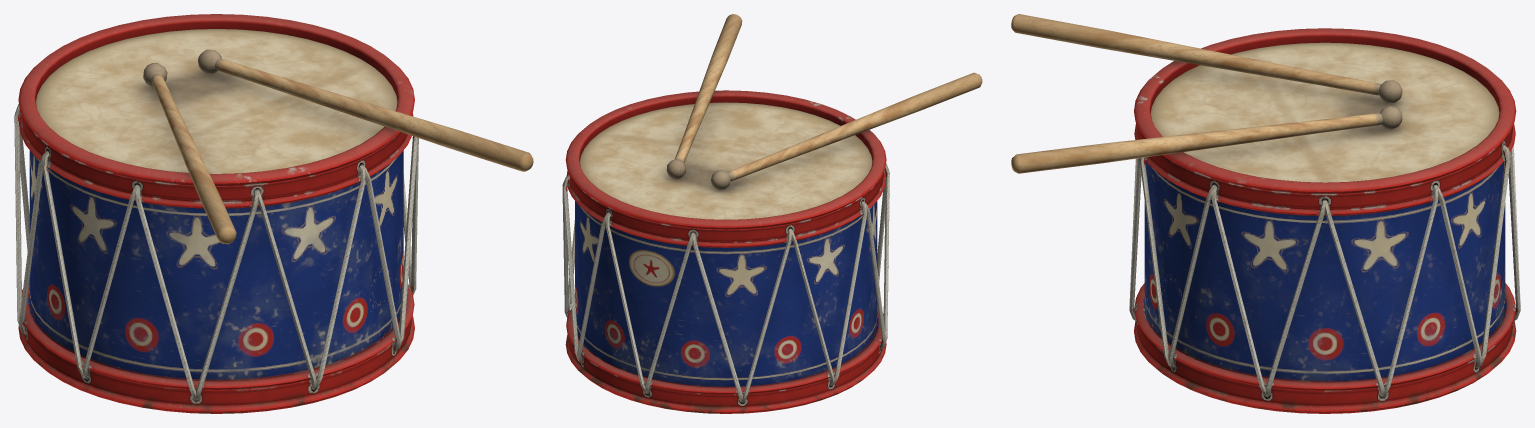
File: ToyDrum.fbx
3 renders of one model, left to right at view 1: azimuth 30°, elevation 25°; view 2: azimuth 150°, elevation 25°; view 3: azimuth 270°, elevation 25°, orthographic. The views are drawn at different scales.
Parts seen in each view (by area): view 1: ToyDrum_Body, ToyDrum_Head, ToyDrum_StickR, ToyDrum_StickL; view 2: ToyDrum_Body, ToyDrum_Head, ToyDrum_StickL, ToyDrum_StickR; view 3: ToyDrum_Body, ToyDrum_Head, ToyDrum_StickR, ToyDrum_StickL.
Boxes of the visible parts, x1,y1,x2,y2 form: ToyDrum_Body: [14, 14, 418, 413]; ToyDrum_Head: [36, 29, 397, 173]; ToyDrum_StickR: [198, 49, 533, 171]; ToyDrum_StickL: [143, 63, 236, 244]; ToyDrum_Body: [562, 90, 889, 413]; ToyDrum_Head: [580, 102, 872, 219]; ToyDrum_StickL: [711, 72, 982, 189]; ToyDrum_StickR: [666, 14, 742, 178]; ToyDrum_Body: [1129, 28, 1520, 413]; ToyDrum_Head: [1150, 42, 1499, 182]; ToyDrum_StickR: [1011, 105, 1402, 173]; ToyDrum_StickL: [1011, 14, 1402, 103].
Bounding box in the file's own units: 0.7057 × 0.4971 × 0.9178.
1 material, 1 textured.
